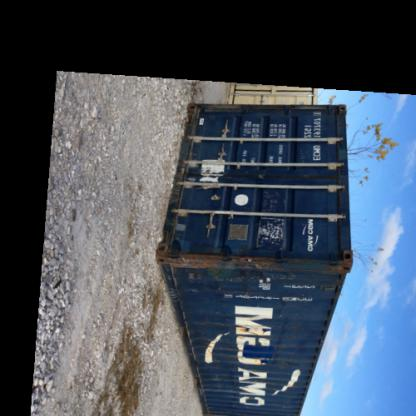Damage: (165, 247, 279, 290), (192, 306, 216, 362), (258, 197, 288, 239), (271, 310, 291, 372), (324, 246, 352, 278), (226, 364, 249, 402), (238, 320, 258, 336)
